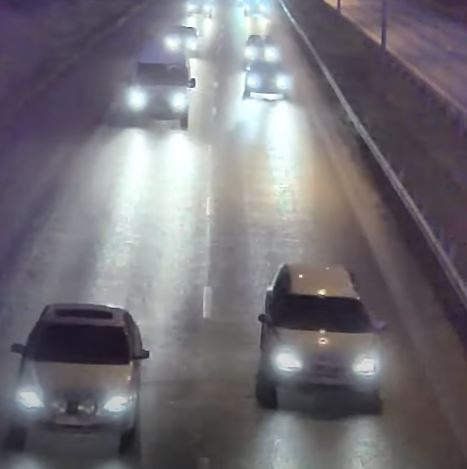Car: (9, 302, 151, 454), (255, 260, 387, 407), (124, 51, 197, 130), (244, 59, 292, 102)
